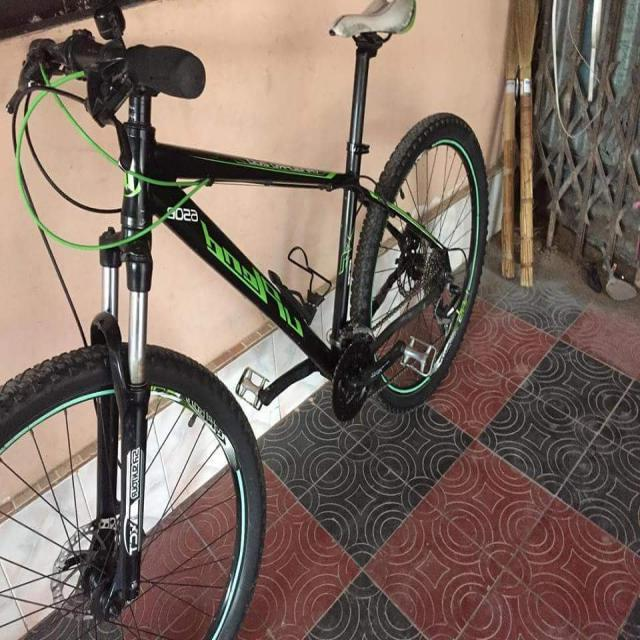Bicycle: (1, 1, 506, 640)
